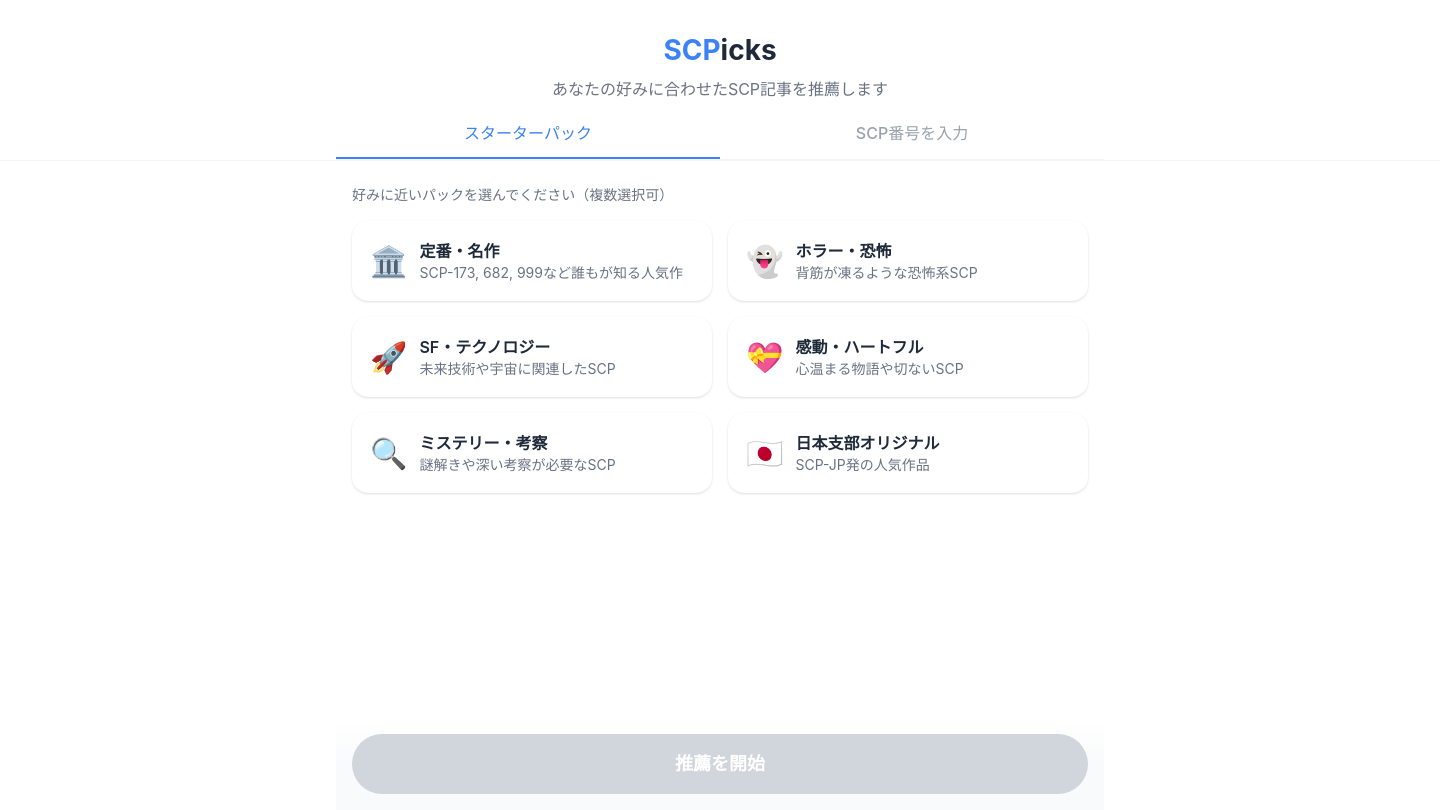
Test: OnboardingPage › AC-1: タブUI実装 › タブ切り替えで1画面内でコンテンツが切り替わる
expect the element with test id "pack-selector" is shown: met, box [336, 161, 1104, 605]
What coordinates should you click on to do the following:
click the tab "SCP番号を入力"
I would click on:
 (912, 134)
Its box is [720, 109, 1104, 159].
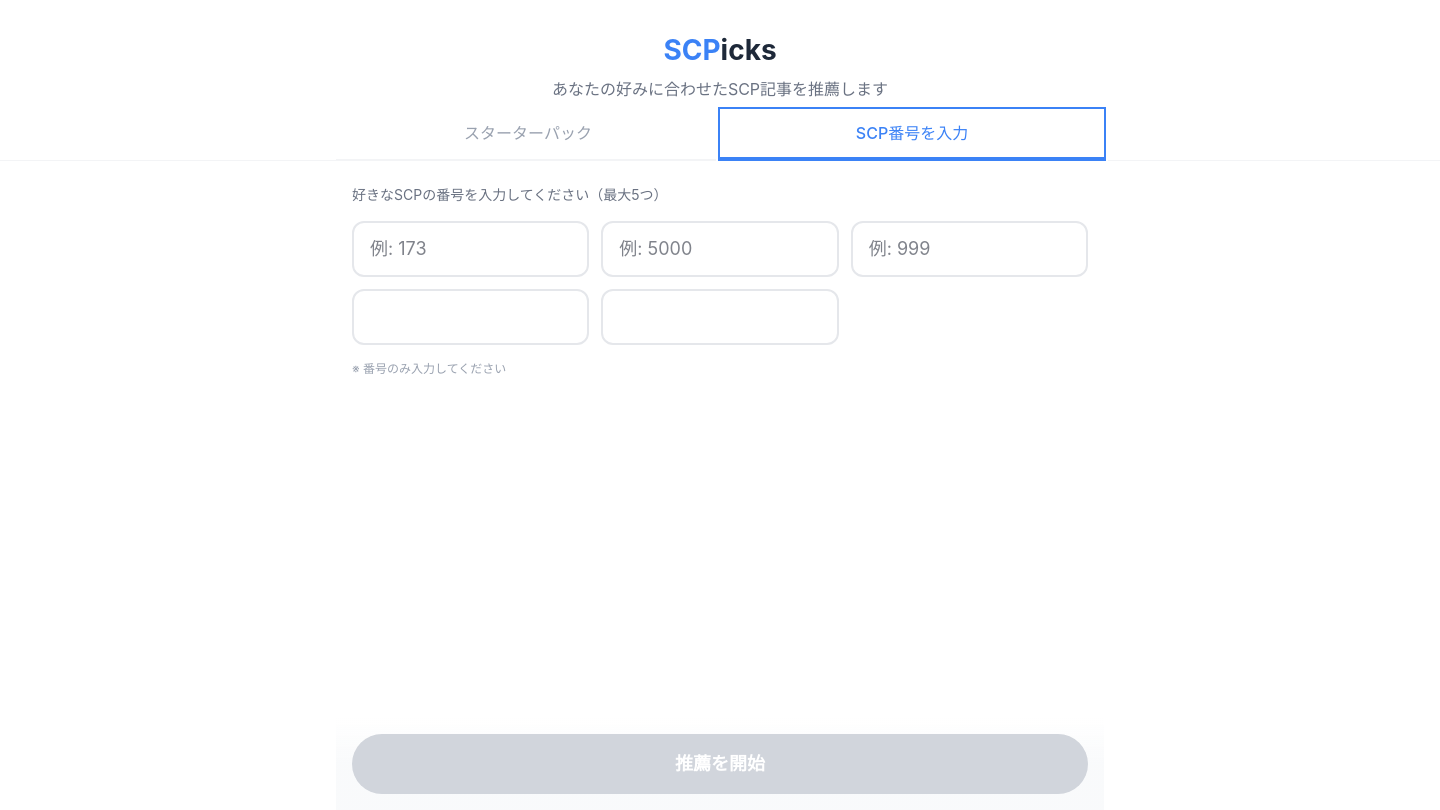
expect the element with test id "scp-number-input" is shown: met, box [352, 186, 1088, 376]
expect the element with test id "pack-selector" is gone: met
